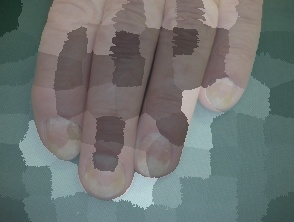Nail_psoriasis: (71, 138, 141, 209), (37, 105, 90, 167), (132, 119, 184, 182), (197, 62, 248, 116)
